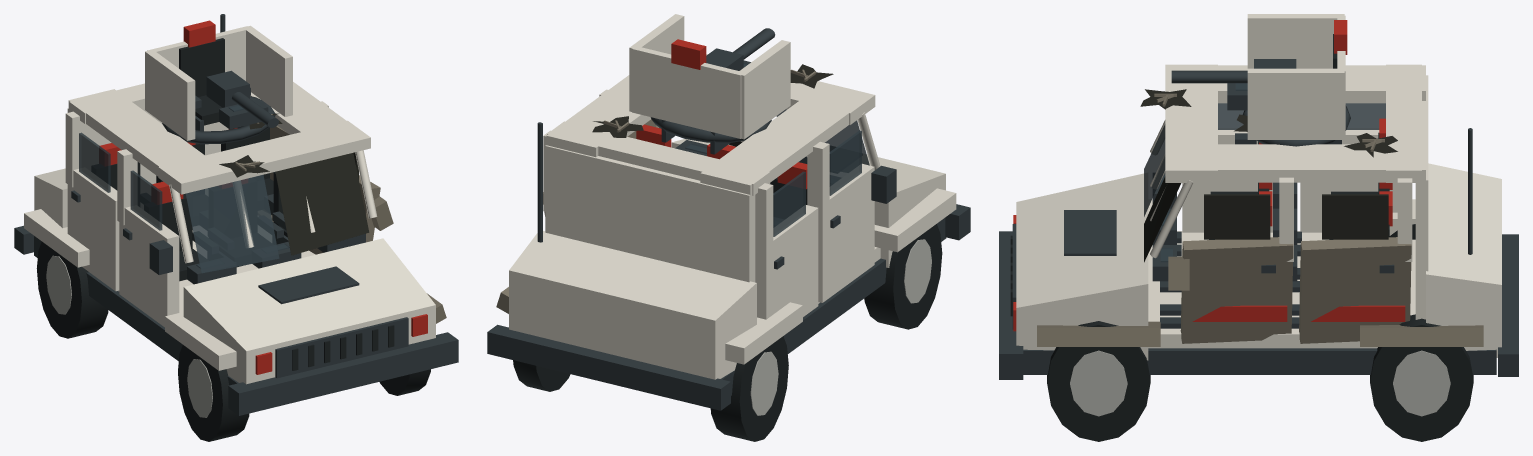
3 views of the same model, side by side, from view 1: azimuth 30°, elevation 25°; view 2: azimuth 150°, elevation 25°; view 3: azimuth 270°, elevation 25° (orthographic). The views are drawn at different scales.
Parts seen in each view (by area): view 1: humvee-damaged-fleet-armor, humvee-damaged-fleet-machine, humvee-damaged-fleet-glass, turret-fleet-armor, humvee-damaged-fleet-damage-charred, crew-chair-front-center-painted, crew-chair-gunner-painted, wheel--1--1.54-fleet-rubber, wheel--1-1.52-fleet-rubber, crew-chair-driver-painted, barrel-fleet-machine, humvee-damaged-fleet-damage-metal (+10 smaller); view 2: humvee-damaged-fleet-armor, humvee-damaged-fleet-machine, turret-fleet-armor, wheel--1-1.52-fleet-rubber, wheel--1--1.54-fleet-rubber, humvee-damaged-fleet-glass, crew-chair-driver-painted, wheel--1-1.52-fleet-edge, wheel--1--1.54-fleet-edge, crew-chair-gunner-painted, barrel-fleet-machine, wheel-1--1.54-fleet-rubber (+4 smaller); view 3: humvee-damaged-fleet-armor, humvee-damaged-fleet-damage-metal, humvee-damaged-fleet-machine, turret-fleet-armor, humvee-damaged-fleet-damage-charred, wheel-1--1.54-fleet-rubber, wheel-1-1.52-fleet-rubber, wheel-1--1.54-fleet-edge, wheel-1-1.52-fleet-edge, humvee-damaged-fleet-red, humvee-damaged-fleet-glass, barrel-fleet-machine (+7 smaller).
Boxes of the visible parts, left/top/right/bottom form: humvee-damaged-fleet-armor: left=24, top=82, right=435, bottom=384; humvee-damaged-fleet-machine: left=14, top=14, right=458, bottom=415; humvee-damaged-fleet-glass: left=79, top=132, right=279, bottom=273; turret-fleet-armor: left=145, top=25, right=292, bottom=140; humvee-damaged-fleet-damage-charred: left=219, top=113, right=369, bottom=255; crew-chair-front-center-painted: left=208, top=178, right=300, bottom=273; crew-chair-gunner-painted: left=179, top=20, right=268, bottom=131; wheel--1--1.54-fleet-rubber: left=36, top=241, right=108, bottom=338; wheel--1-1.52-fleet-rubber: left=178, top=345, right=249, bottom=441; crew-chair-driver-painted: left=144, top=181, right=235, bottom=284; barrel-fleet-machine: left=206, top=70, right=278, bottom=127; humvee-damaged-fleet-damage-metal: left=235, top=114, right=446, bottom=323; humvee-damaged-fleet-armor: left=509, top=54, right=956, bottom=379; humvee-damaged-fleet-machine: left=487, top=122, right=970, bottom=410; turret-fleet-armor: left=629, top=14, right=790, bottom=139; wheel--1-1.52-fleet-rubber: left=864, top=224, right=942, bottom=329; wheel--1--1.54-fleet-rubber: left=710, top=336, right=788, bottom=441; humvee-damaged-fleet-glass: left=773, top=109, right=869, bottom=236; crew-chair-driver-painted: left=770, top=162, right=840, bottom=218; wheel--1-1.52-fleet-edge: left=904, top=239, right=931, bottom=303; wheel--1--1.54-fleet-edge: left=750, top=351, right=778, bottom=415; crew-chair-gunner-painted: left=661, top=39, right=750, bottom=154; barrel-fleet-machine: left=706, top=28, right=775, bottom=70; wheel-1--1.54-fleet-rubber: left=513, top=360, right=570, bottom=391; humvee-damaged-fleet-armor: left=1016, top=64, right=1501, bottom=360; humvee-damaged-fleet-damage-metal: left=1037, top=93, right=1483, bottom=346; humvee-damaged-fleet-machine: left=999, top=128, right=1518, bottom=379; turret-fleet-armor: left=1247, top=14, right=1345, bottom=139; humvee-damaged-fleet-damage-charred: left=1140, top=89, right=1397, bottom=262; wheel-1--1.54-fleet-rubber: left=1370, top=314, right=1473, bottom=441; wheel-1-1.52-fleet-rubber: left=1047, top=321, right=1150, bottom=441; wheel-1--1.54-fleet-edge: left=1393, top=350, right=1450, bottom=416; wheel-1-1.52-fleet-edge: left=1070, top=350, right=1127, bottom=416; humvee-damaged-fleet-red: left=1013, top=215, right=1405, bottom=331; humvee-damaged-fleet-glass: left=1144, top=103, right=1385, bottom=216; barrel-fleet-machine: left=1171, top=59, right=1296, bottom=83.
Bounding box in the file's own units: 16.03 × 20.28 × 26.84.
